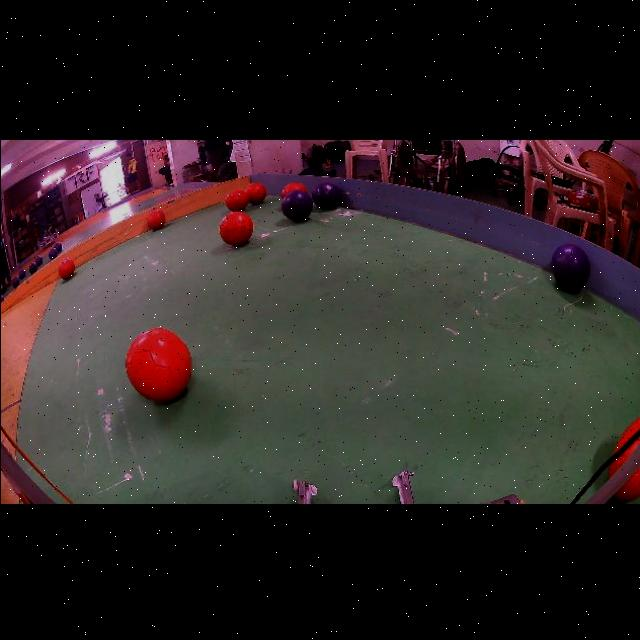P: (551, 243, 589, 292), (280, 189, 313, 221), (310, 182, 339, 208), (47, 246, 57, 259), (10, 275, 19, 287), (33, 254, 42, 265), (53, 241, 61, 251), (18, 268, 26, 277), (0, 293, 4, 303)
R: (124, 327, 191, 399), (608, 435, 640, 476), (218, 210, 252, 245), (613, 465, 640, 501), (613, 417, 640, 451), (224, 188, 248, 211), (245, 182, 266, 203), (280, 182, 307, 198), (146, 208, 165, 229), (57, 256, 74, 278)
